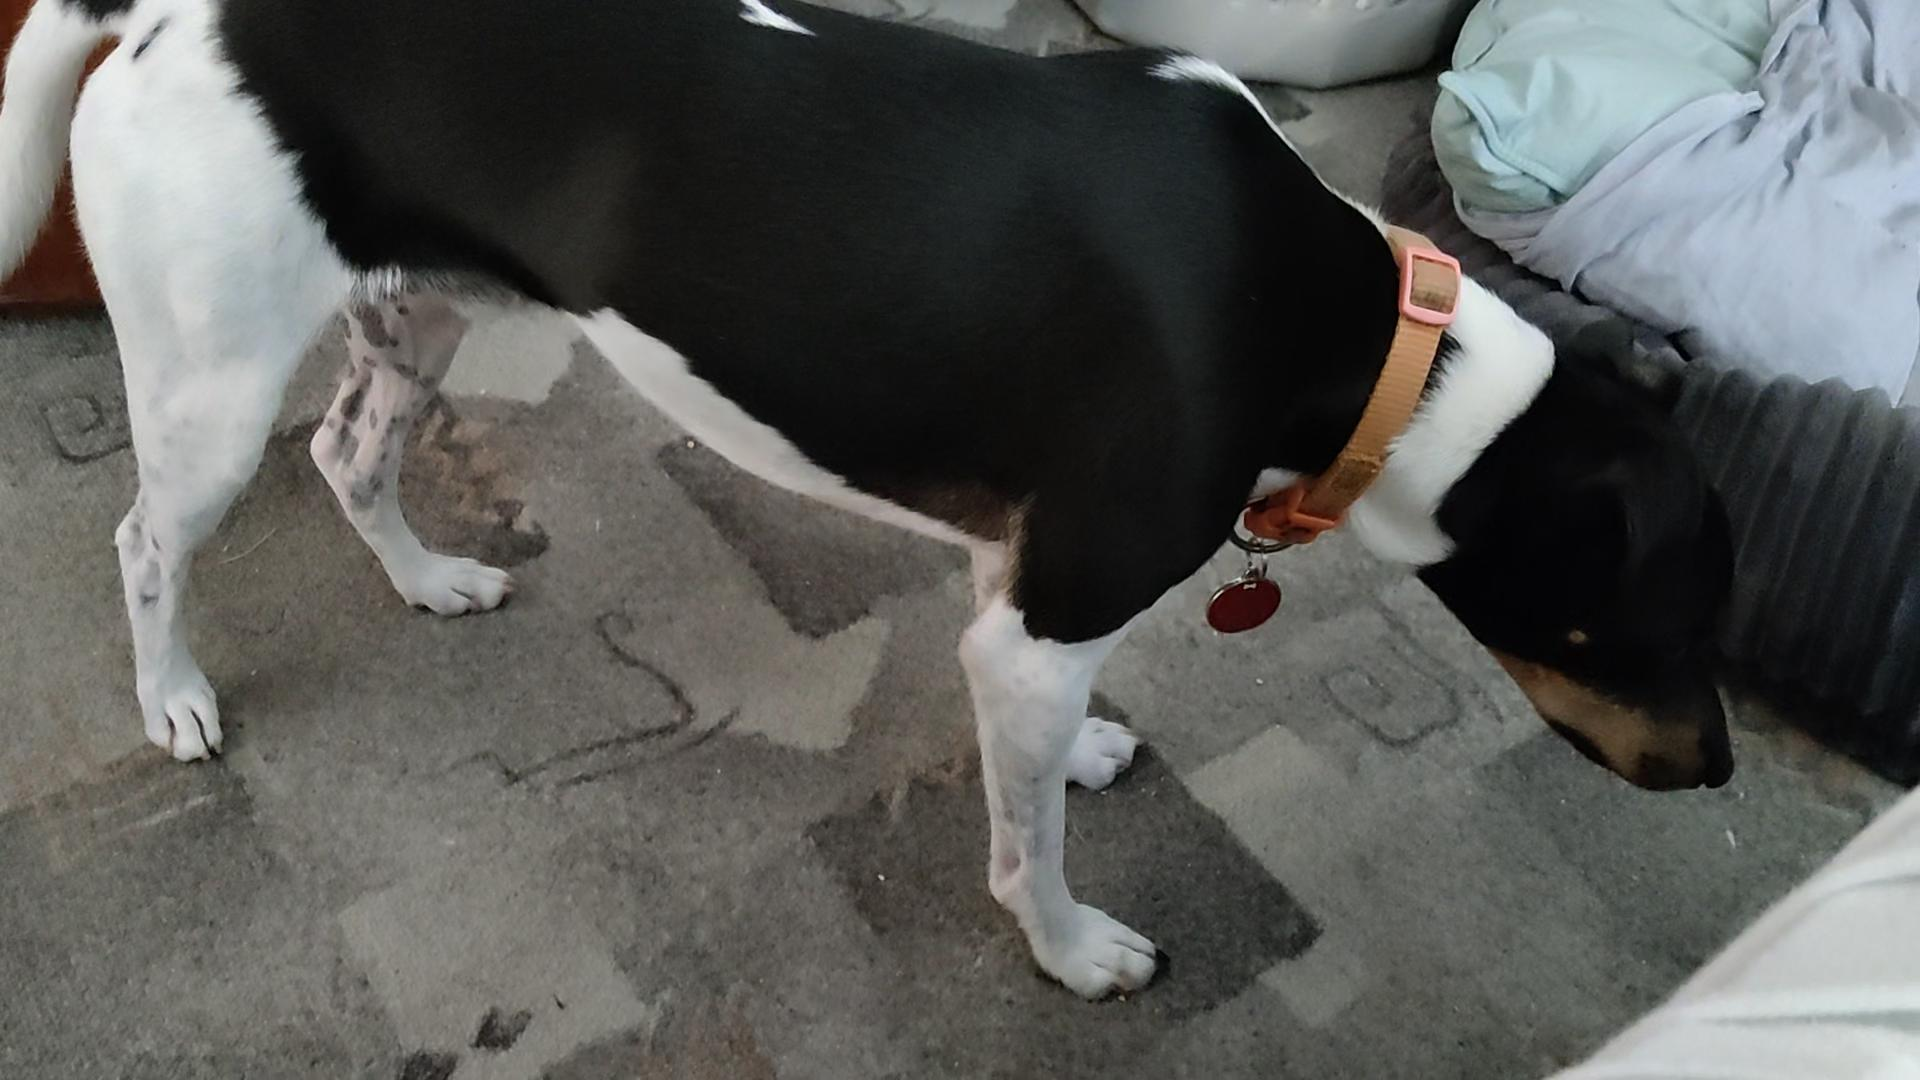Dog: (0, 0, 1749, 1009)
